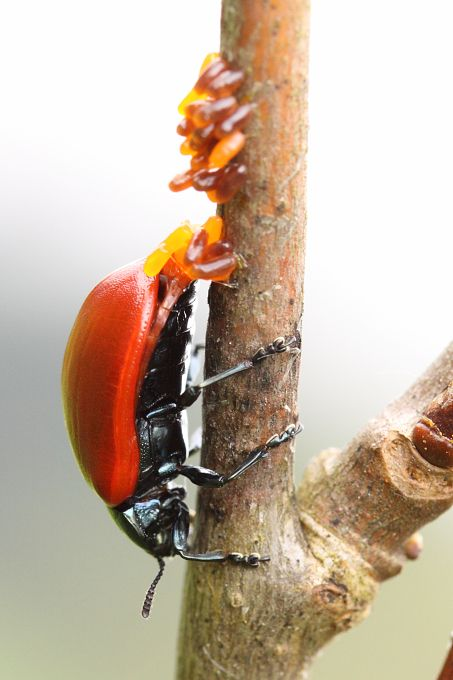Chrysomela_populi: (54, 235, 307, 621)
